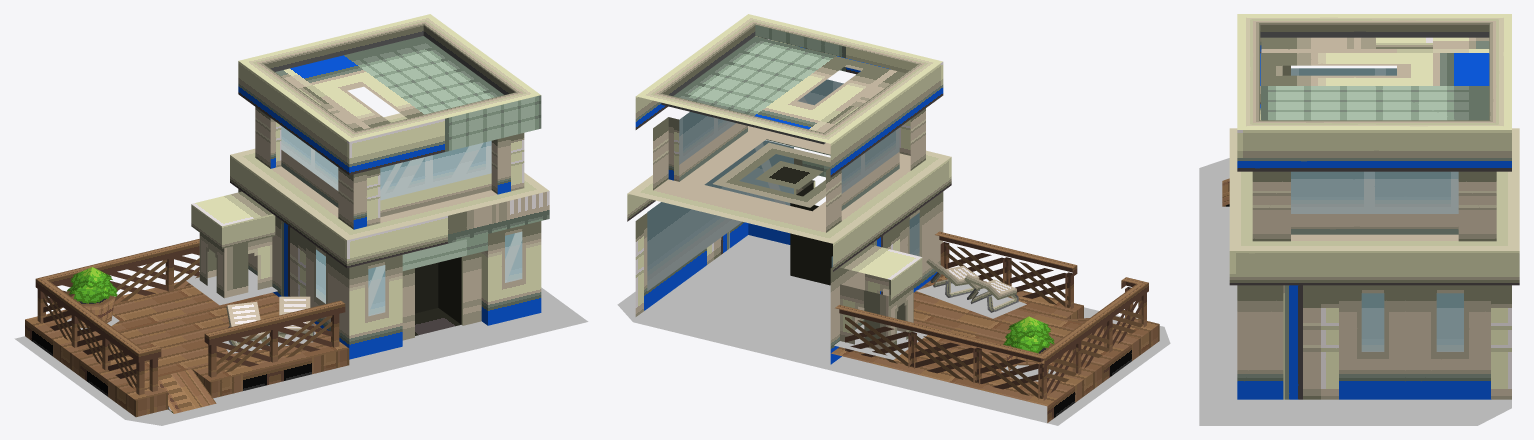
File: st_house02.dae
3 renders of one model, left to right at view 1: azimuth 30°, elevation 25°; view 2: azimuth 150°, elevation 25°; view 3: azimuth 270°, elevation 25°, orthographic. The views are drawn at different scales.
Parts seen in each view (by area): view 1: st_house02; view 2: st_house02; view 3: st_house02.
Boxes of the visible parts, left/top/right/bottom form: st_house02: left=14, top=14, right=588, bottom=425; st_house02: left=617, top=14, right=1170, bottom=425; st_house02: left=1199, top=14, right=1519, bottom=425.
Bounding box in the file's own units: 168 × 80 × 84.
